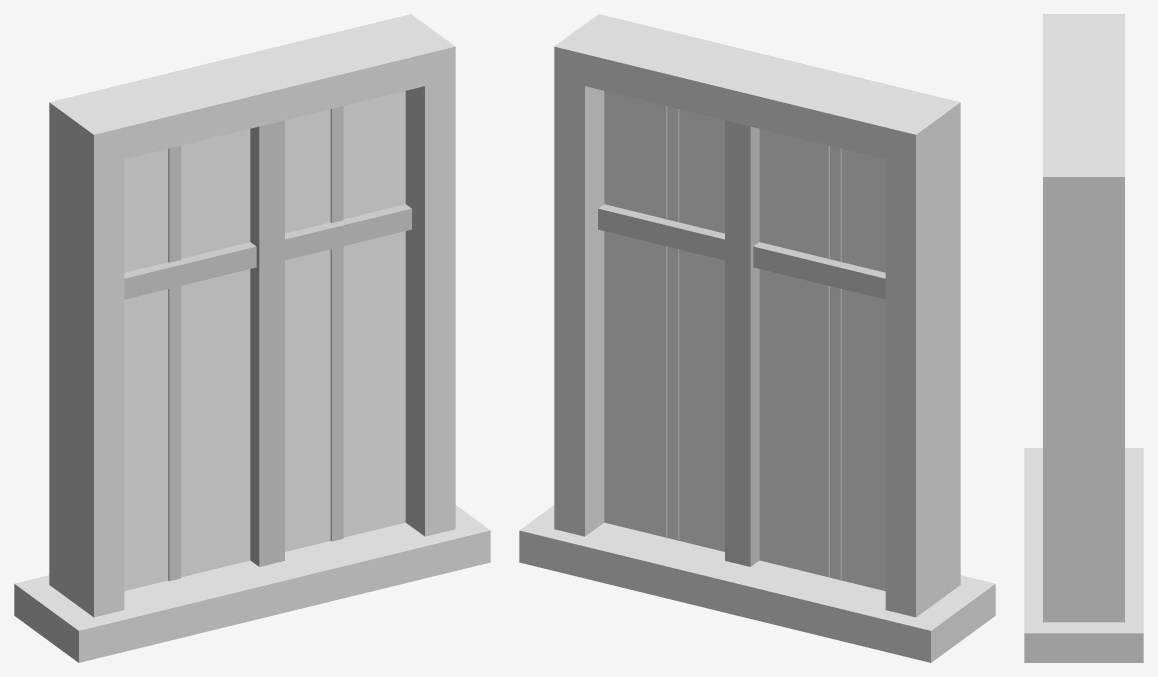
The model's file is window_016.fbx.
3 renders of one model, left to right at view 1: azimuth 30°, elevation 25°; view 2: azimuth 150°, elevation 25°; view 3: azimuth 270°, elevation 25°, orthographic. The views are drawn at different scales.
Visible parts, largest first — view 1: window_016; view 2: window_016; view 3: window_016.
Boxes of the visible parts, x1,y1,x2,y2 form: window_016: [14, 14, 490, 662]; window_016: [519, 14, 995, 662]; window_016: [1024, 14, 1143, 662].
Size of the model in its own units: 157 by 42.75 by 188.
